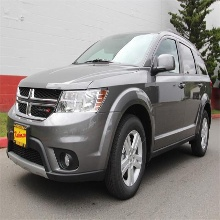no damage: (7, 31, 213, 200)
